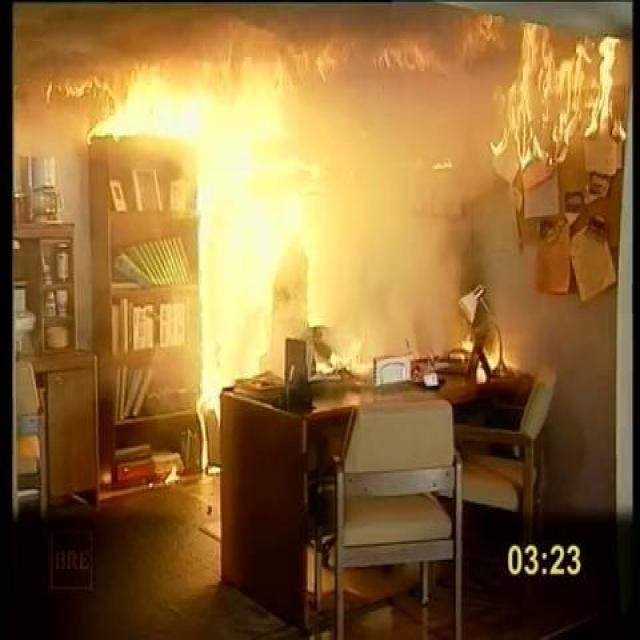fire: (99, 59, 356, 410), (478, 32, 640, 206), (466, 339, 518, 388)
